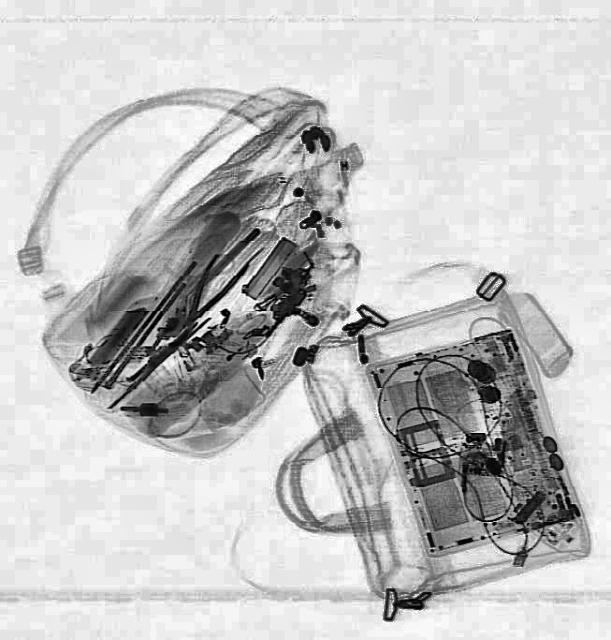Pliers: (164, 244, 251, 338)
